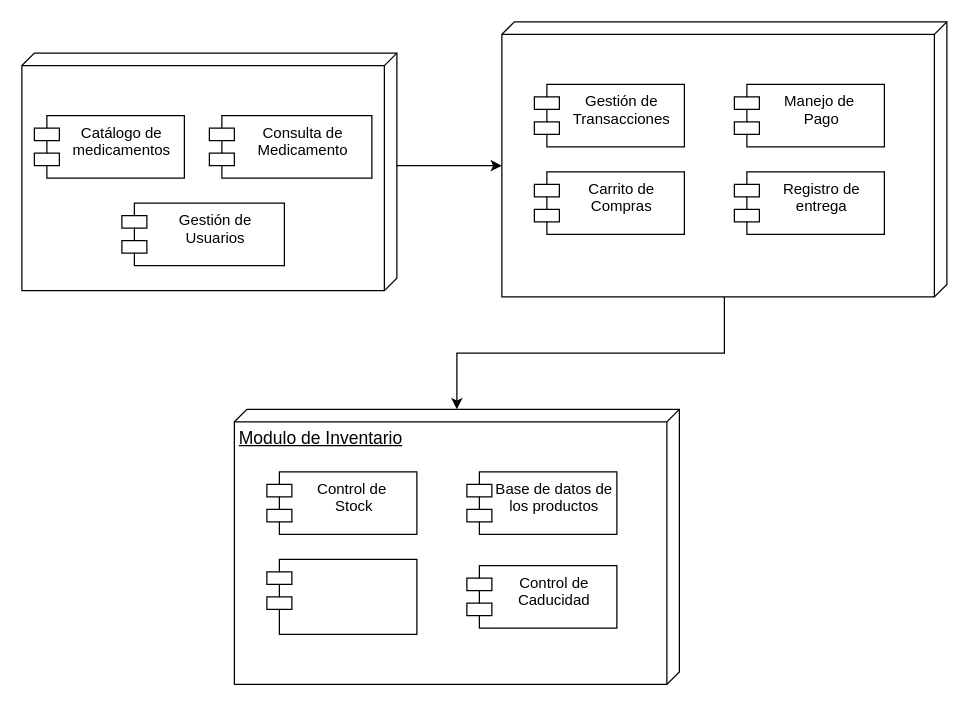
Some shapes in this 969 by 706 pixel diagram are drawn without their labels. The shapes that lost their labels are listed below. From the top down, each one's box as (x1, y1, x2, y2) in pixels, then its label:
(21, 52, 397, 291): Interfaz de Usuario
(501, 21, 947, 297): Modulo de ventas
(266, 558, 417, 634): Historial de entrada y salida de productos
